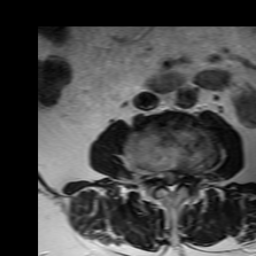CCS_normal: (167, 164, 175, 198)
LFS_severe_stenosis: (184, 164, 194, 188)
LLS_severe_stenosis: (175, 164, 184, 190)
RFS_stenosis: (148, 161, 158, 188)
RLS_stenosis: (158, 161, 167, 188)
